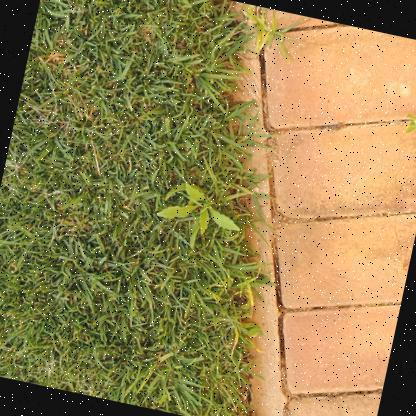Weeds: (153, 177, 248, 244)
